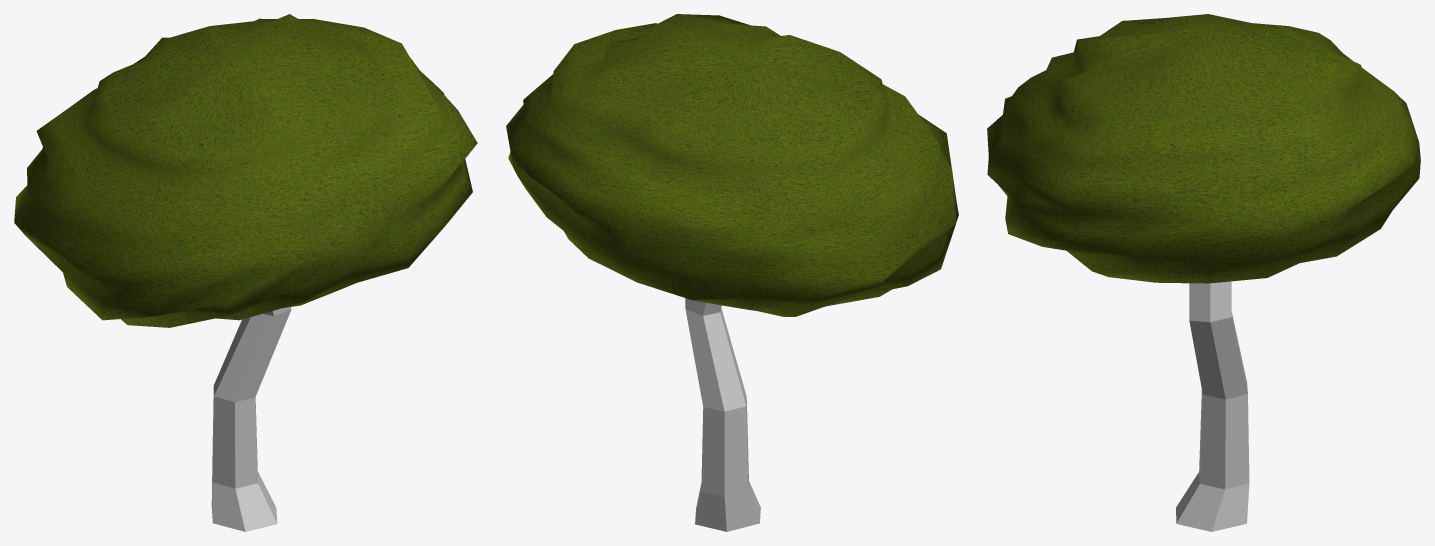
The model's file is tree1.fbx.
The picture shows the model from 3 angles, left to right: view 1: azimuth 30°, elevation 25°; view 2: azimuth 150°, elevation 25°; view 3: azimuth 270°, elevation 25°; orthographic projection. The views are drawn at different scales.
Parts seen in each view (by area): view 1: pSphere1, pCylinder1; view 2: pSphere1, pCylinder1; view 3: pSphere1, pCylinder1.
Boxes of the visible parts, box(x1,y1,x2,y2) form: pSphere1: box(14, 14, 477, 327); pCylinder1: box(211, 307, 291, 531); pSphere1: box(506, 14, 958, 316); pCylinder1: box(685, 298, 760, 531); pSphere1: box(987, 14, 1420, 283); pCylinder1: box(1176, 281, 1249, 531).
Size of the model in its own units: 11.44 by 12.86 by 10.51.
